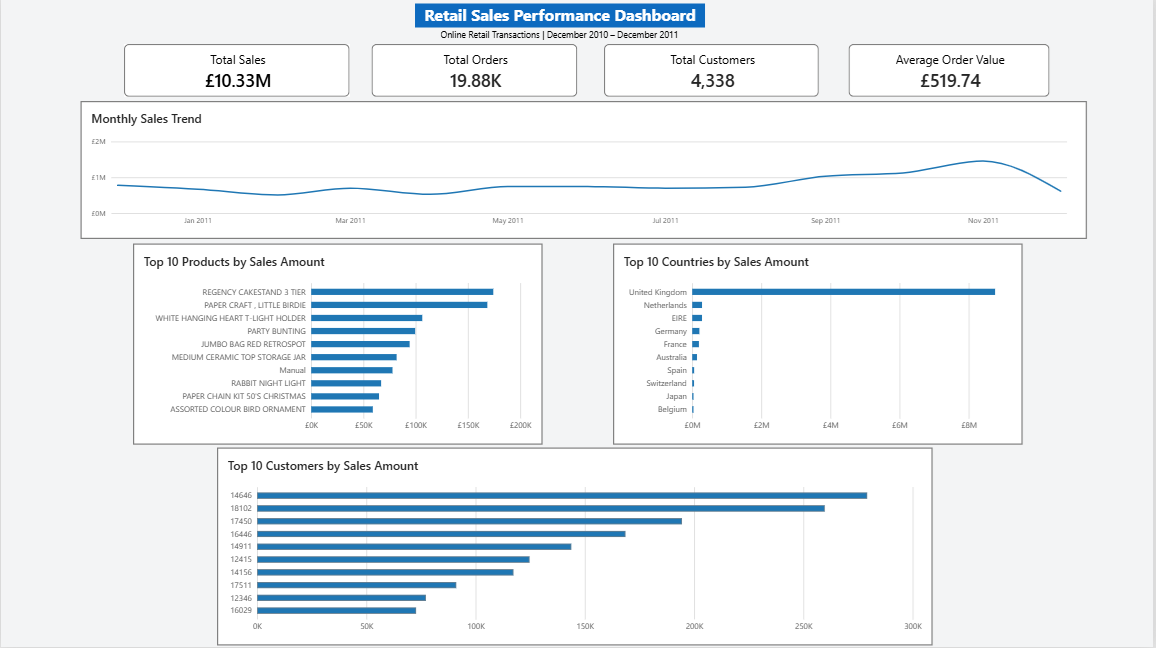

The page's visual inventory and layout, read from the dashboard file:
{"tool":"powerbi","page":{"name":"Page 1","canvas":[1920,1080],"ordinal":0},"visuals":[{"type":"cardVisual","title":"Total Orders","fields":{"Data":["Count(retail_product_sales_clean.InvoiceNo)"]},"box":[603.6,76.3,396.1,88.3],"z":0},{"type":"cardVisual","title":"Total Customers","fields":{"Data":["retail_product_sales_clean.Total Customers Display"]},"box":[1021.2,76.3,391.3,88.3],"z":1000},{"type":"cardVisual","title":"Average Order Value","fields":{"Data":["retail_product_sales_clean.Average Order Value"]},"box":[1431.5,76.3,379.4,88.3],"z":2000},{"type":"lineChart","title":"Monthly Sales Trend","fields":{"Category":["retail_product_sales_clean.MonthYear"],"Y":["Sum(retail_product_sales_clean.SalesAmount)"]},"box":[132.5,170,1677.5,230],"z":3000},{"type":"clusteredBarChart","title":"Top 10 Products by Sales Amount","fields":{"Category":["retail_product_sales_clean.Description"],"Y":["Sum(retail_product_sales_clean.SalesAmount)"]},"box":[133.6,408,768.3,334],"z":4000},{"type":"clusteredBarChart","title":"Top 10 Countries by Sales Amount","fields":{"Category":["retail_product_sales_clean.Country"],"Y":["Sum(retail_product_sales_clean.SalesAmount)"]},"box":[1021.2,408,789.7,334],"z":5000},{"type":"clusteredBarChart","title":"Top 10 Customers by Sales Amount","fields":{"Category":["retail_product_sales_clean.CustomerID"],"Y":["retail_product_sales_clean.Customer Sales"]},"box":[133.6,746.8,1677.3,331.6],"z":6000},{"type":"textbox","box":[690,7.5,483.3,40],"z":7000},{"type":"textbox","box":[732.5,47.5,397.5,33.8],"z":8000},{"type":"cardVisual","fields":{"Data":["Sum(retail_product_sales_clean.SalesAmount)"]},"box":[133.6,76.3,446.2,88.3],"z":9000}]}

Visuals, with their boxes in screenshot pixels (x1, y1, x2, y2), scaled from the page's 1920x1080 canvas onto the 1156x648 screenshot:
"Total Orders" cardVisual: pyautogui.locateOnScreen(363, 46, 602, 99)
"Total Customers" cardVisual: pyautogui.locateOnScreen(615, 46, 850, 99)
"Average Order Value" cardVisual: pyautogui.locateOnScreen(862, 46, 1090, 99)
"Monthly Sales Trend" lineChart: pyautogui.locateOnScreen(80, 102, 1090, 240)
"Top 10 Products by Sales Amount" clusteredBarChart: pyautogui.locateOnScreen(80, 245, 543, 445)
"Top 10 Countries by Sales Amount" clusteredBarChart: pyautogui.locateOnScreen(615, 245, 1090, 445)
"Top 10 Customers by Sales Amount" clusteredBarChart: pyautogui.locateOnScreen(80, 448, 1090, 647)
textbox: pyautogui.locateOnScreen(415, 4, 706, 28)
textbox: pyautogui.locateOnScreen(441, 28, 680, 49)
cardVisual - Sum(retail_product_sales_clean.SalesAmount): pyautogui.locateOnScreen(80, 46, 349, 99)
